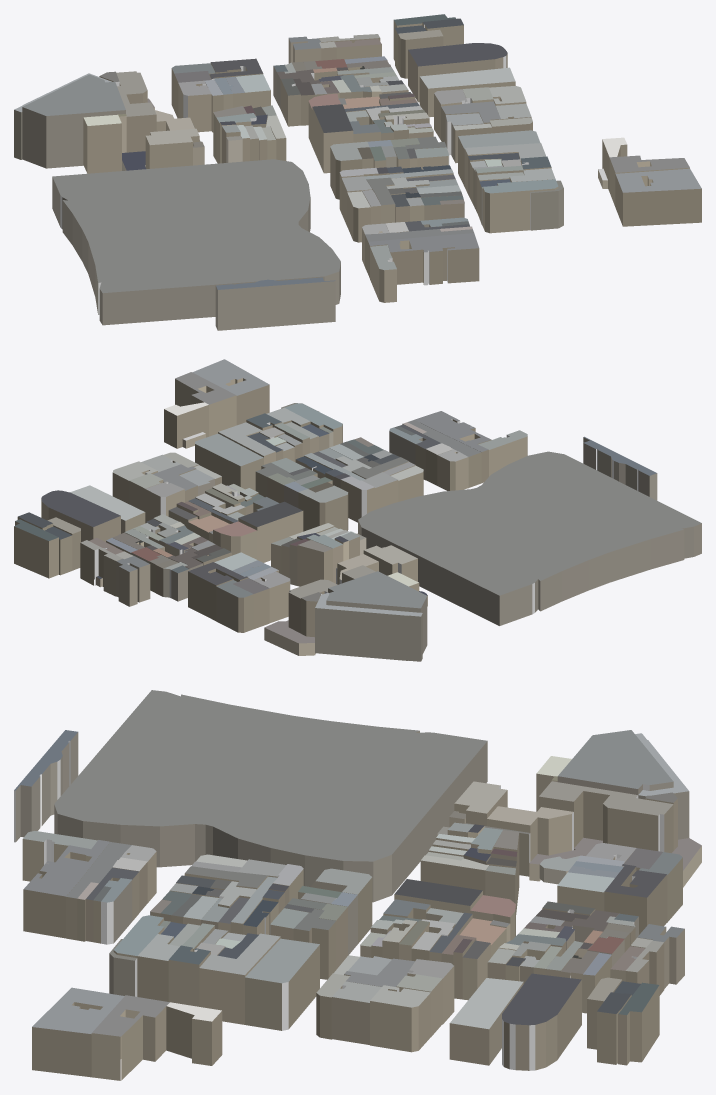
3 renders of one model, top to bottom at view 1: azimuth 30°, elevation 25°; view 2: azimuth 150°, elevation 25°; view 3: azimuth 270°, elevation 25°, orthographic. The views are drawn at different scales.
Visible parts, largest first — view 1: tuile; view 2: tuile; view 3: tuile.
Boxes of the visible parts, <box> form: tuile: <box>14,14,701,330</box>; tuile: <box>14,359,701,661</box>; tuile: <box>14,690,701,1080</box>.
Bounding box in the file's own units: 337 × 30.98 × 277.
